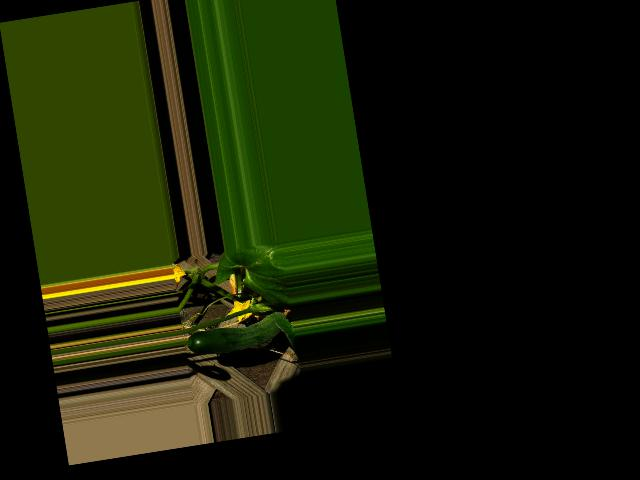cucumber: (186, 309, 295, 358)
